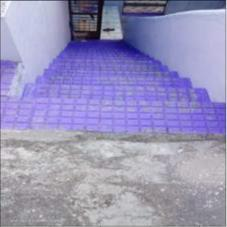Stair Down: (16, 39, 226, 134)
